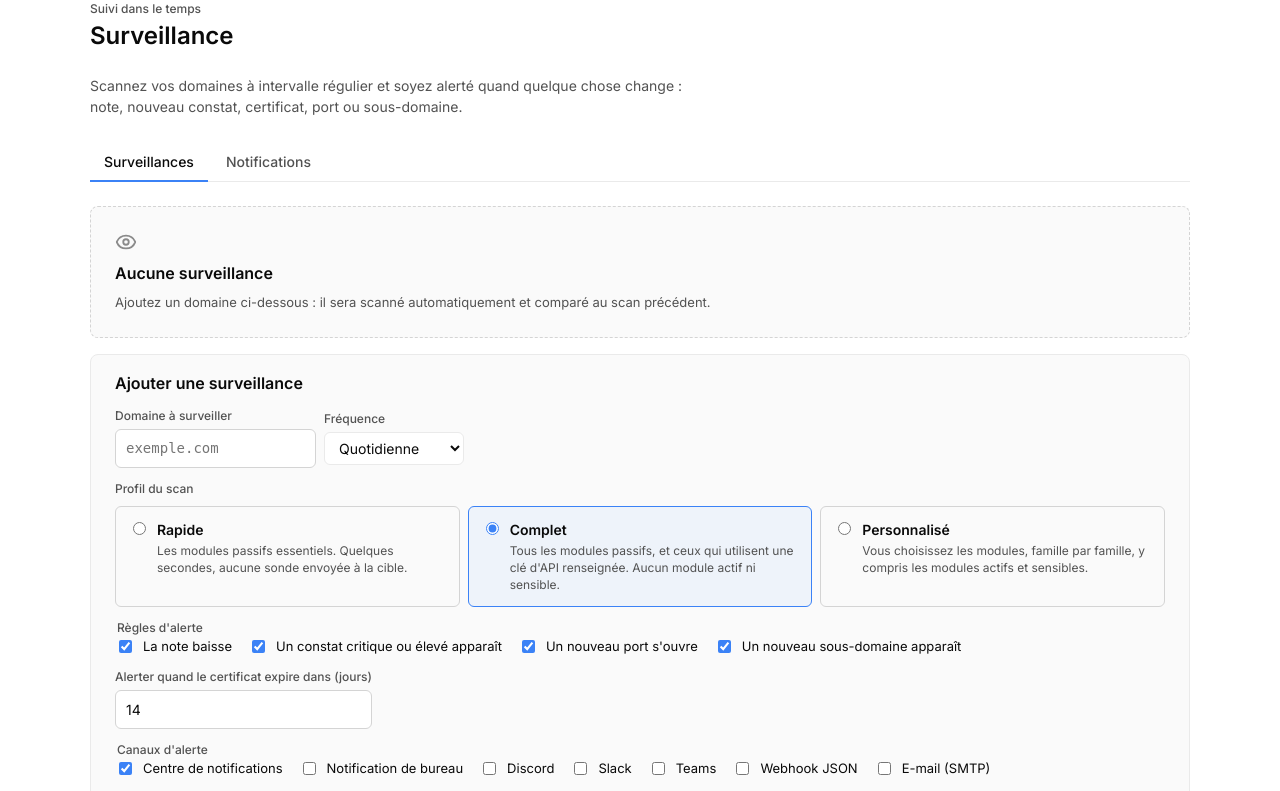
Surveillance › ajoute une surveillance avec règles, canaux et fréquence
Expected: the text "Aucune surveillance" is shown, [115,261,273,285]
Type "new.example.org" into the field labelled "Domaine à surveiller" at (216, 448), box [115,429,316,468]
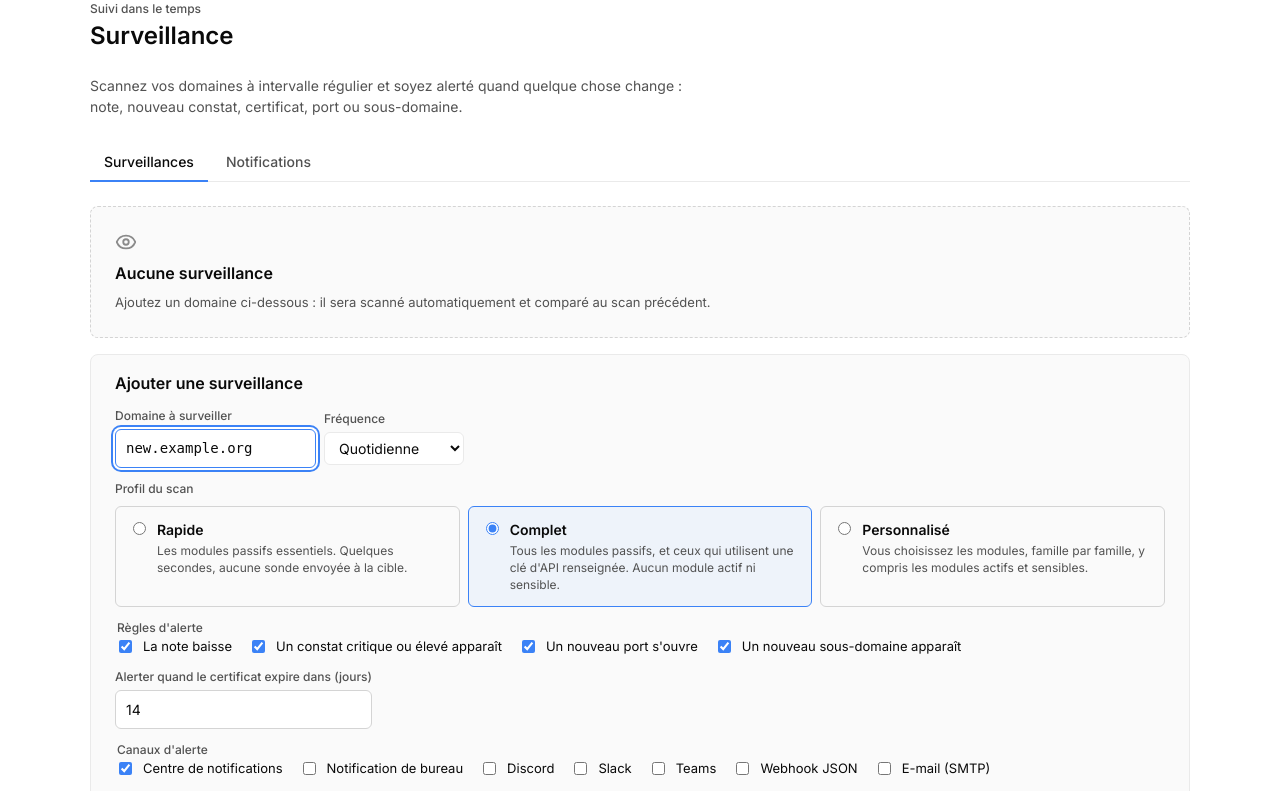
Select "Mensuelle" in the dropdown labelled "Fréquence" at (394, 448), box [324,432,464,465]
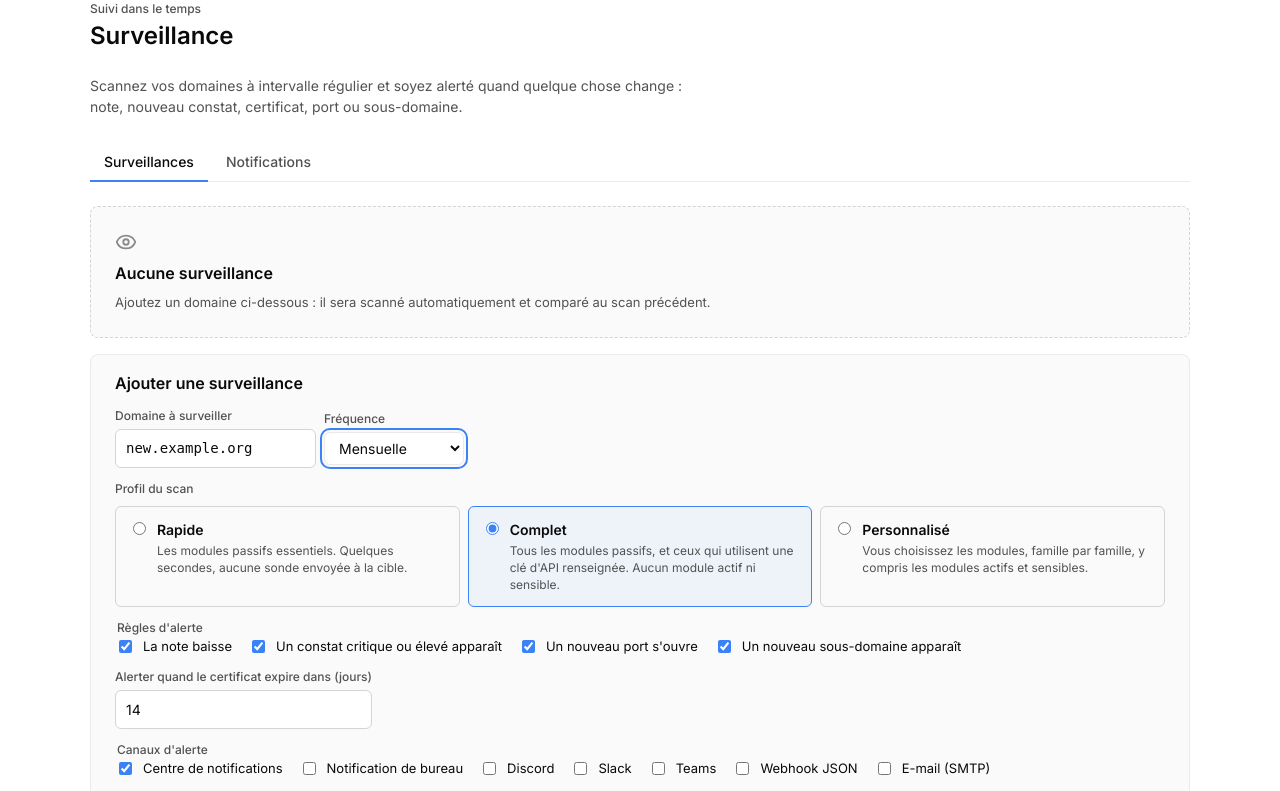
Click the checkbox labelled "Un nouveau sous-domaine apparaît" at (724, 646), box [718,640,731,653]
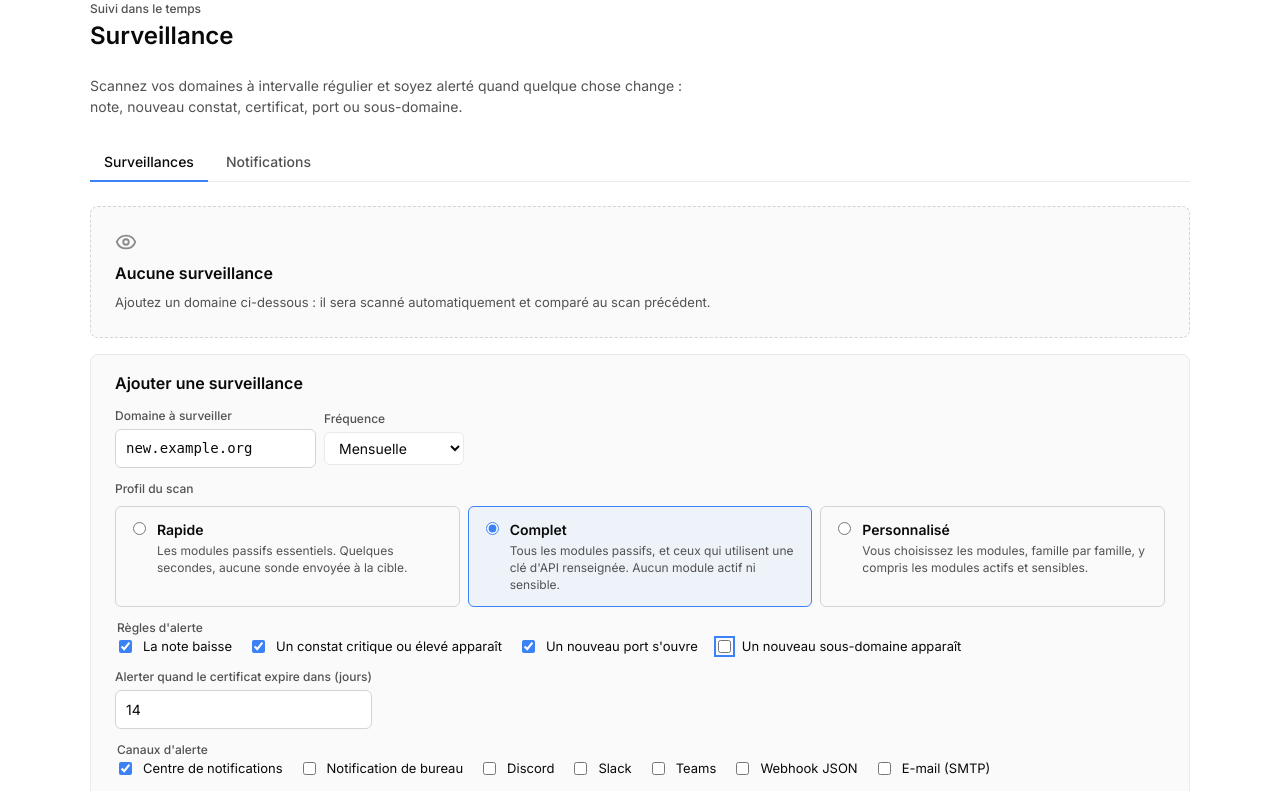
Click the checkbox labelled "Discord" at (490, 768), box [483,762,496,775]
(page scrolled)
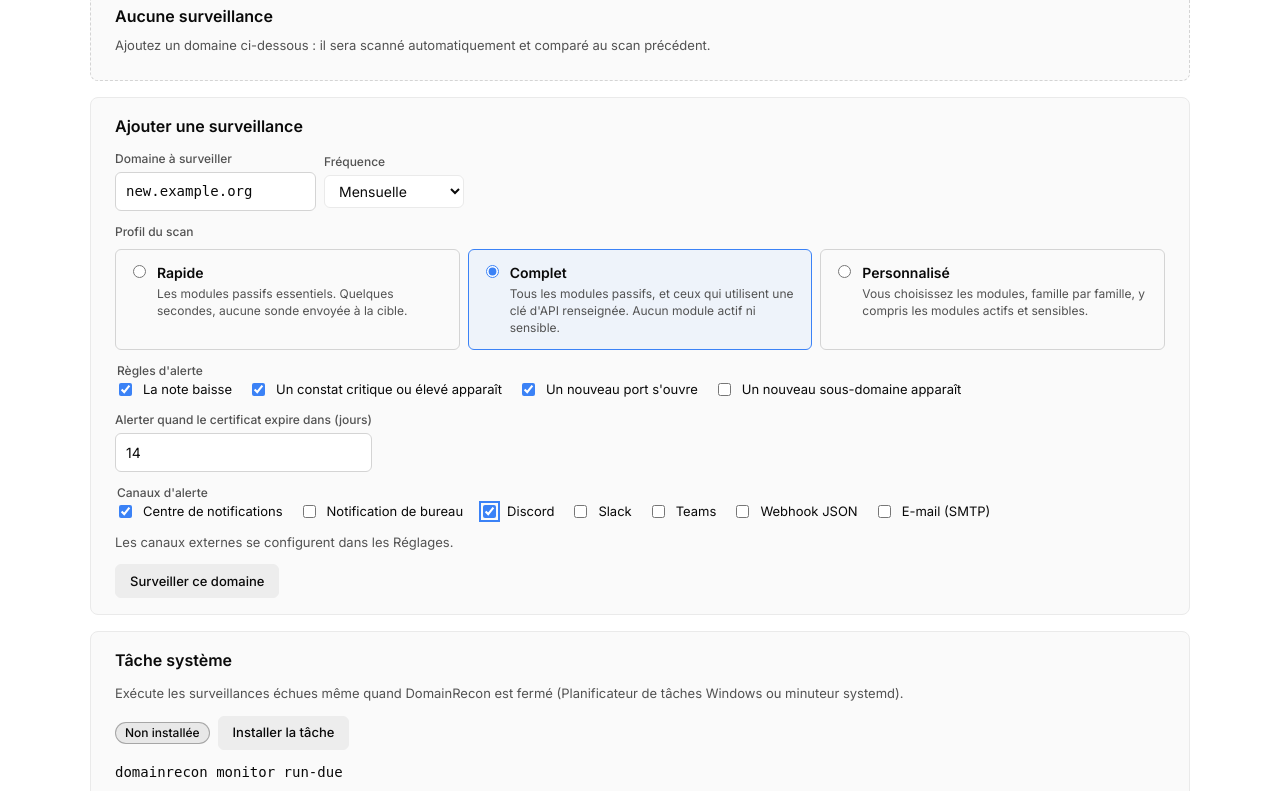
Click the button "Surveiller ce domaine" at (197, 581), box [115,564,279,598]
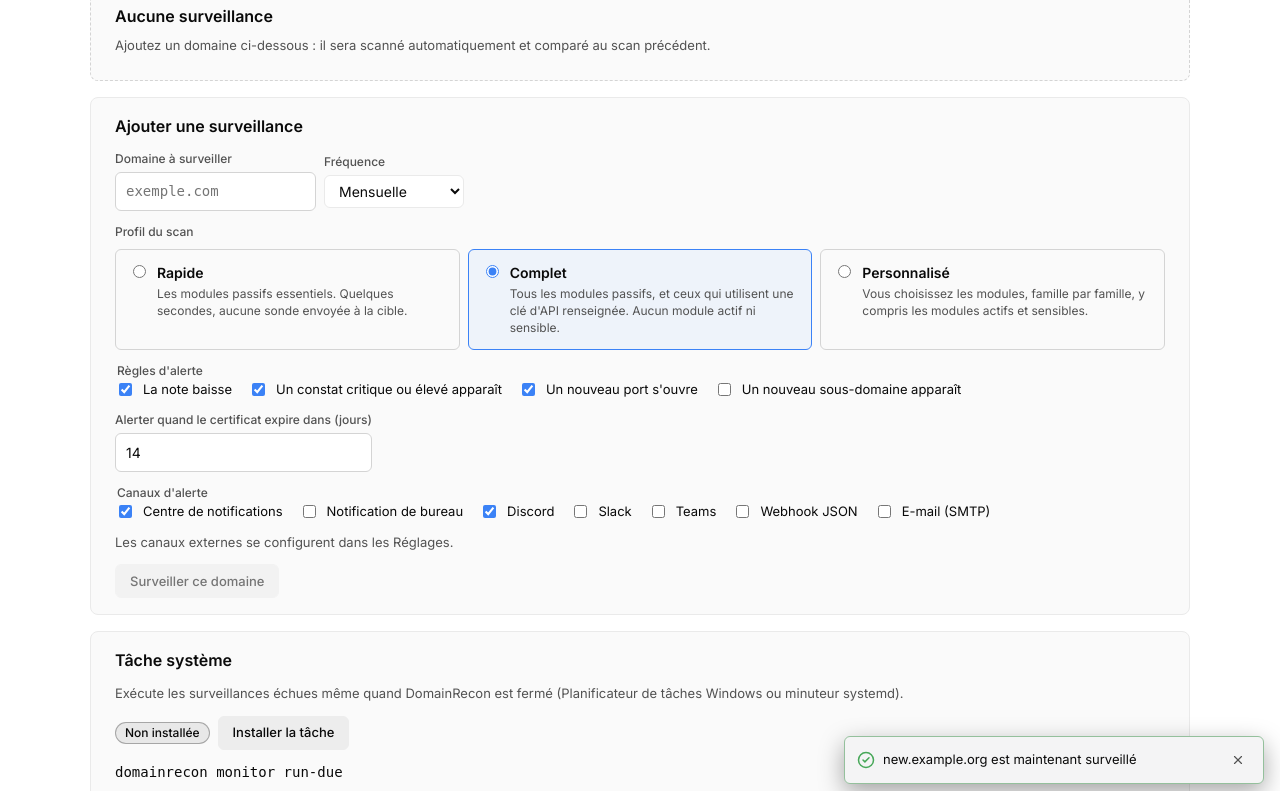
Expected: the text "new.example.org est maintenant surveillé" is shown, [883,751,1136,767]
